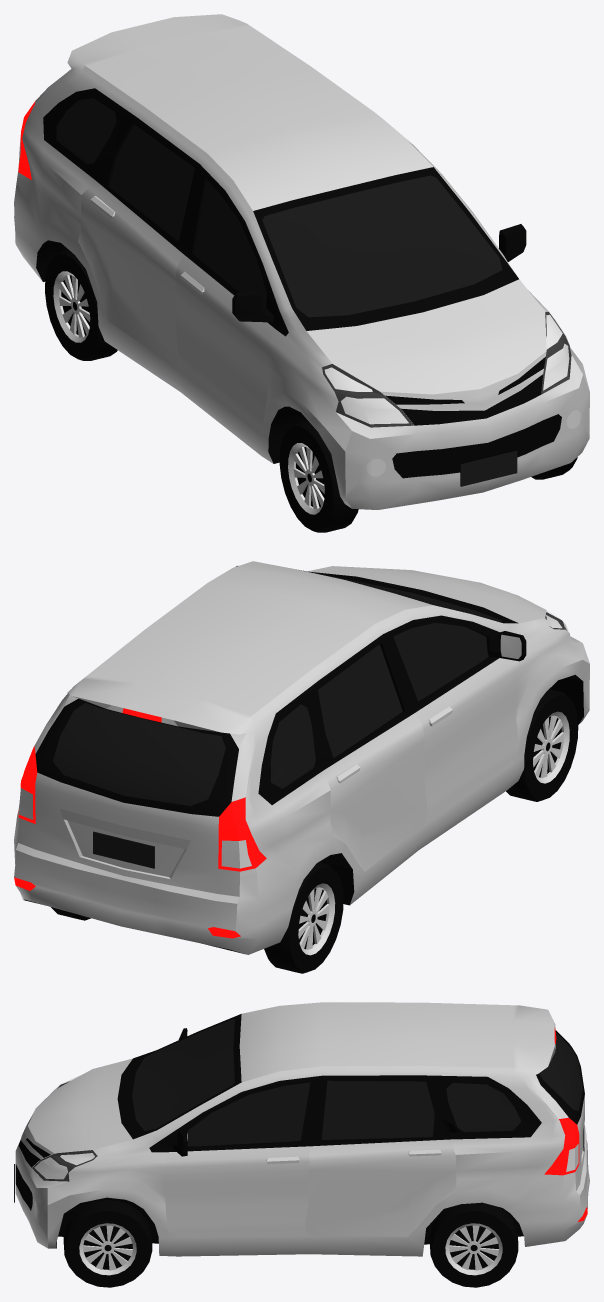
File: vanlowpoly car.fbx
3 views of the same model, one above another, from view 1: azimuth 30°, elevation 25°; view 2: azimuth 150°, elevation 25°; view 3: azimuth 270°, elevation 25° (orthographic). The views are drawn at different scales.
Visible parts, largest first — view 1: Body, Frw, Brw; view 2: Body, Brw, Frw; view 3: Body, Flw, Blw.
Part boxes in pixels (left/top/right/bottom): Body: left=14, top=14, right=589, bottom=509; Frw: left=279, top=420, right=358, bottom=532; Brw: left=45, top=249, right=117, bottom=360; Body: left=14, top=561, right=589, bottom=954; Brw: left=264, top=862, right=343, bottom=973; Frw: left=506, top=689, right=578, bottom=801; Body: left=14, top=1002, right=589, bottom=1256; Flw: left=63, top=1199, right=152, bottom=1287; Blw: left=429, top=1202, right=518, bottom=1287.
Bounding box in the file's own units: 1.99 × 4.37 × 1.77.
